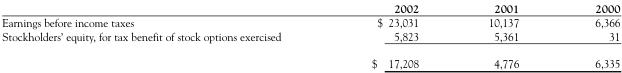table: (1, 1, 619, 69)
table column: (1, 1, 325, 69), (325, 1, 452, 69), (452, 1, 556, 69), (556, 1, 619, 69)
table column header: (1, 1, 619, 14)
table row: (1, 28, 619, 49), (1, 49, 619, 69), (1, 14, 619, 28), (1, 1, 619, 14)
